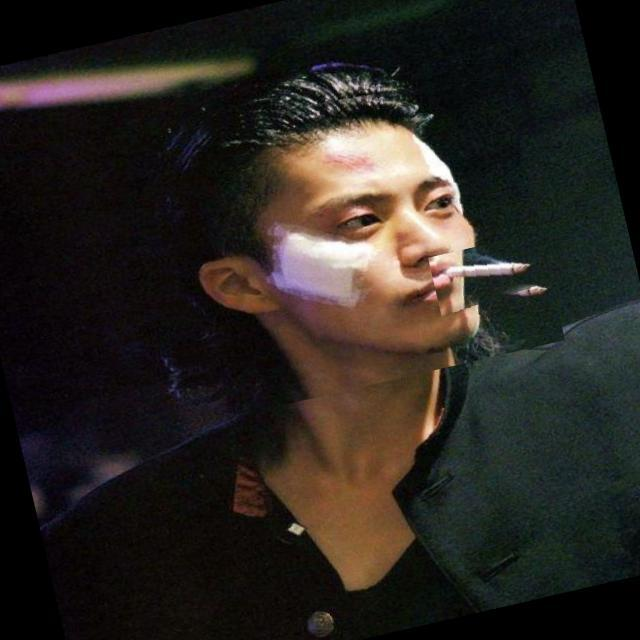cigarette: (428, 232, 553, 316)
